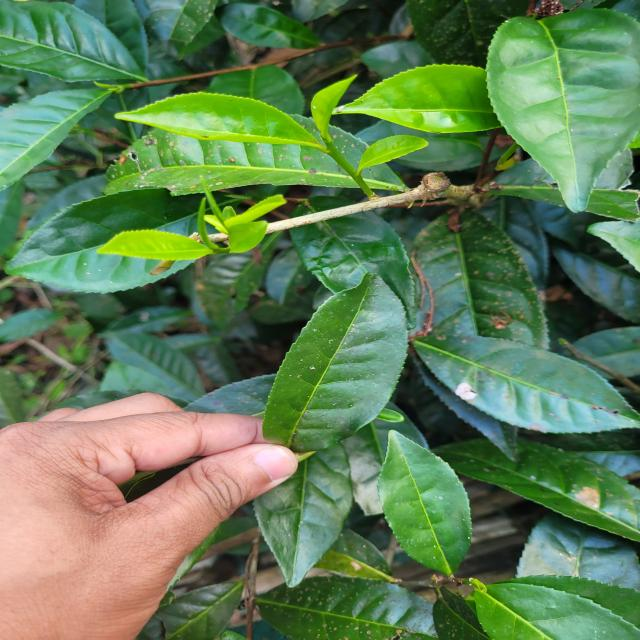Category D(7+ days, Not for Tea): (250, 253, 428, 479)
